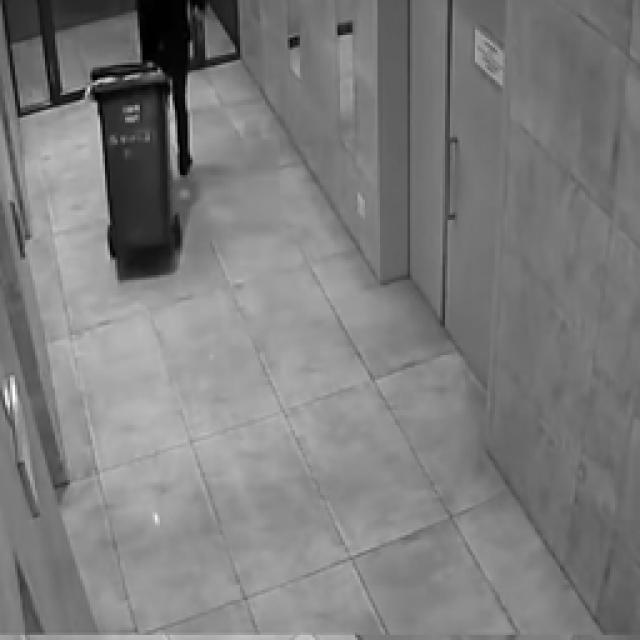Invader: (128, 0, 208, 175)
